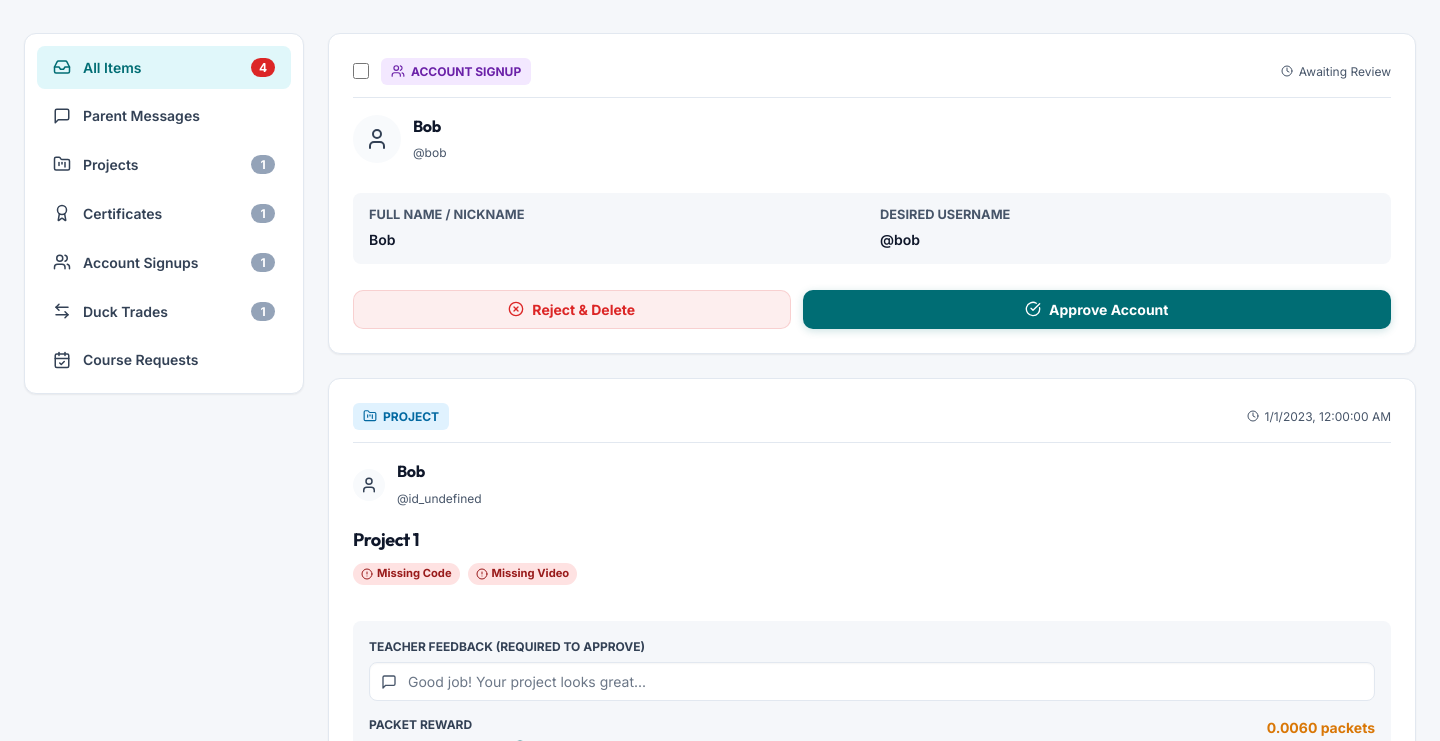
ToReview Component › switches tabs and renders appropriate content
The width and height of the screenshot is (1440, 741).
Expected: the text "Projects" is shown, x1=83 y1=156 x2=138 y2=173
Expected: the heading "Project 1" is shown, x1=353 y1=528 x2=419 y2=551
Note: Each tab narrows the list to its own kind
Step 1. Click the button "Certificates 1" → (164, 213), box x1=37 y1=192 x2=291 y2=235
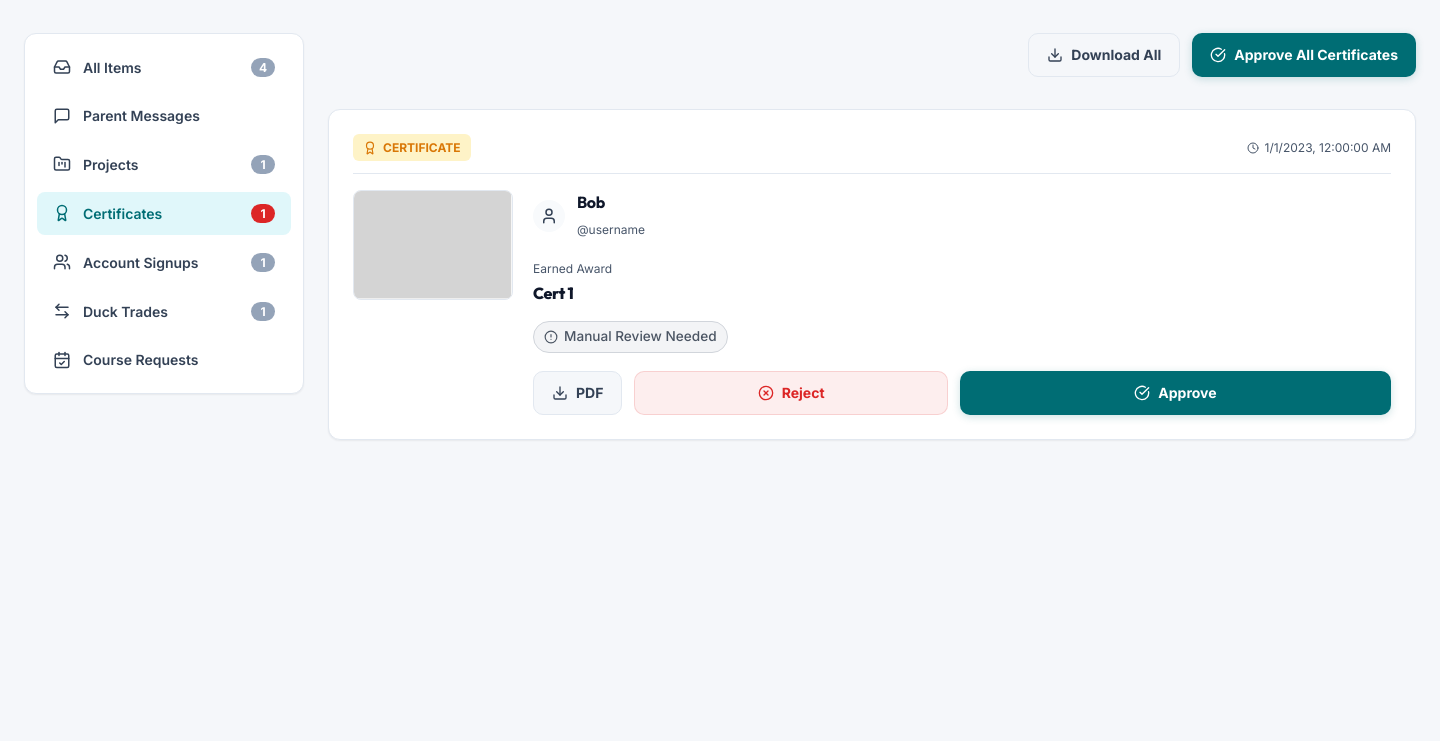
Expected: the heading "Cert 1" is shown, x1=533 y1=283 x2=573 y2=303
Expected: the text "Project 1" is gone
Step 2. Click the button "Projects 1" → (164, 164), box x1=37 y1=143 x2=291 y2=186
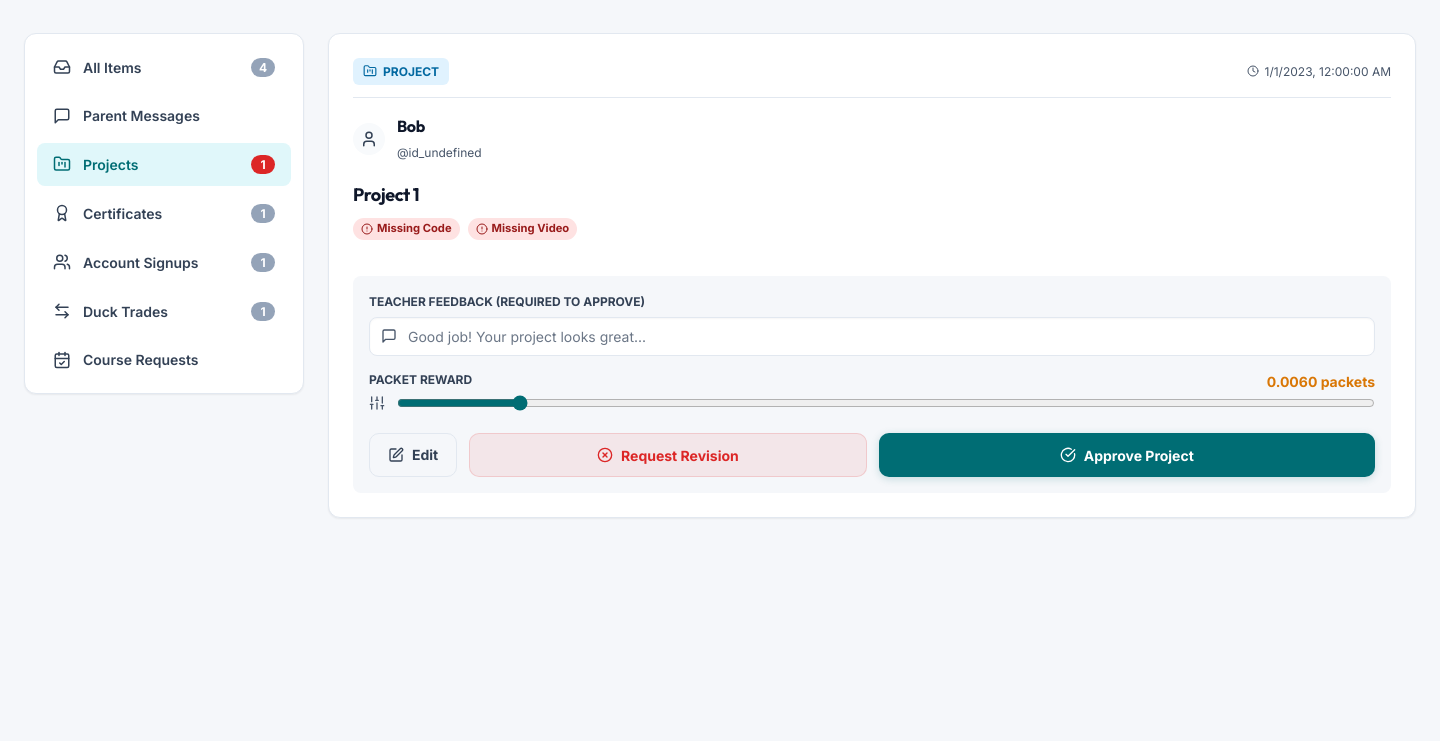
Expected: the heading "Project 1" is shown, x1=353 y1=183 x2=419 y2=206
Expected: the heading "Cert 1" is gone
Step 3. Click the button "Account Signups 1" → (164, 262), box x1=37 y1=241 x2=291 y2=284
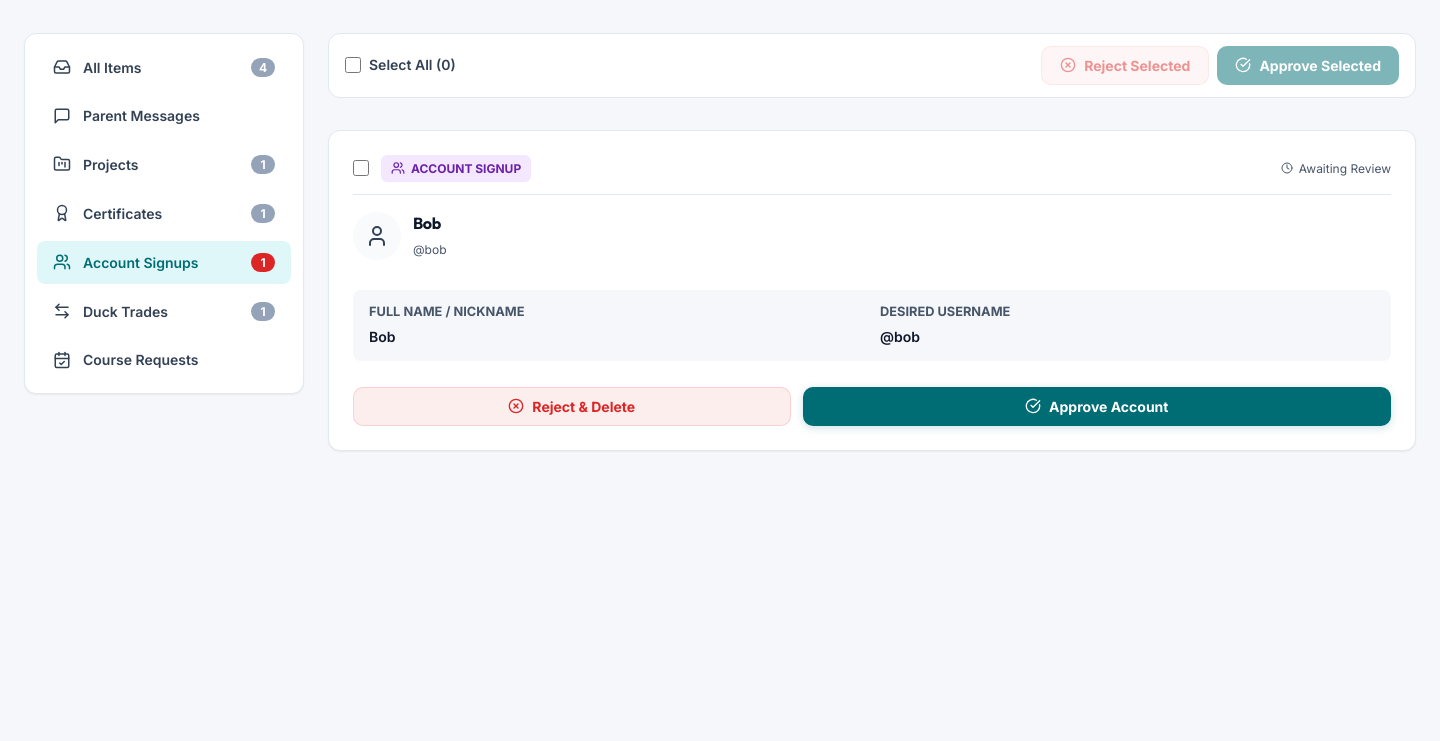
Expected: the button "Approve Account" is shown, x1=802 y1=387 x2=1391 y2=426
Expected: the text "Project 1" is gone
Step 4. Click the button "Duck Trades 1" → (164, 311), box x1=37 y1=290 x2=291 y2=333
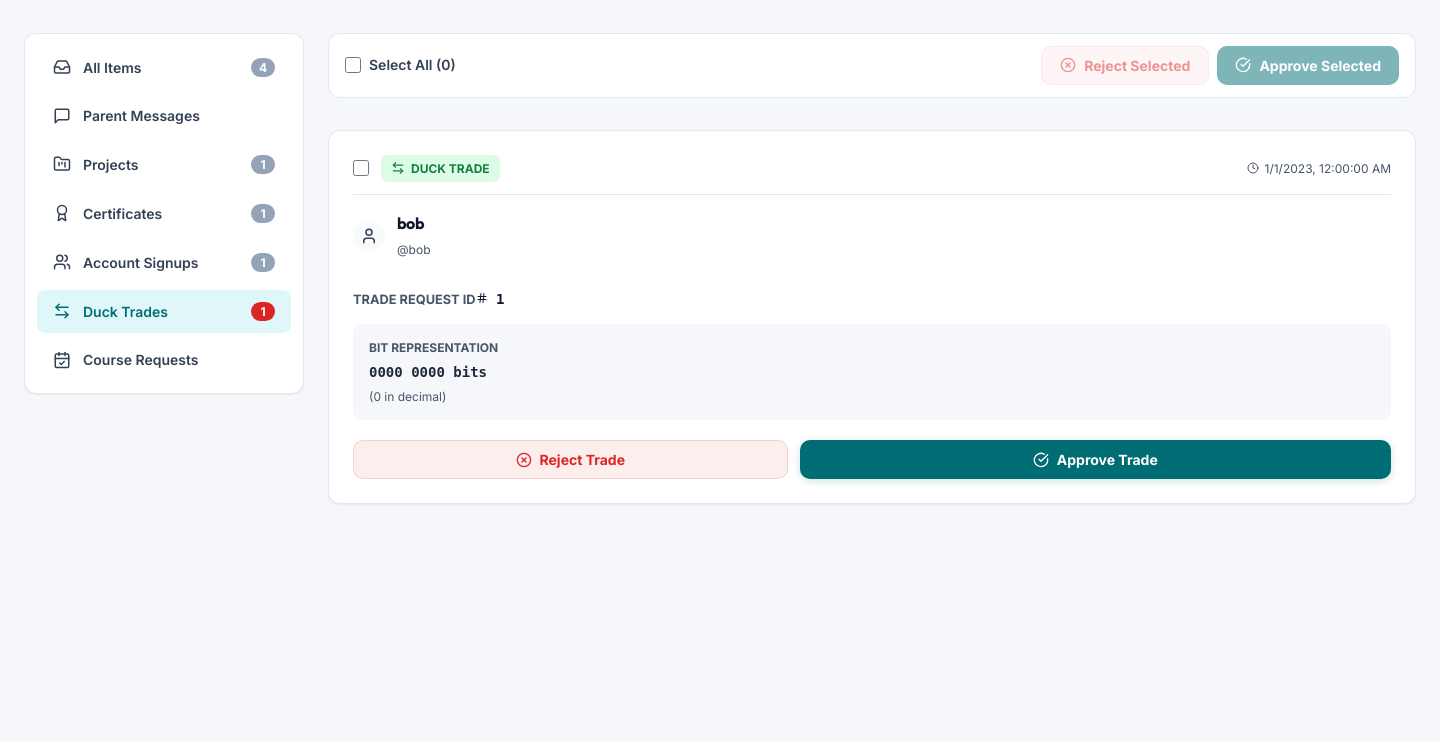
Expected: the button "Approve Trade" is shown, x1=800 y1=440 x2=1391 y2=479
Expected: the button "Approve Account" is gone
Note: A tab without items says so
Step 5. Click the button "Course Requests" → (164, 360), box x1=37 y1=339 x2=291 y2=381
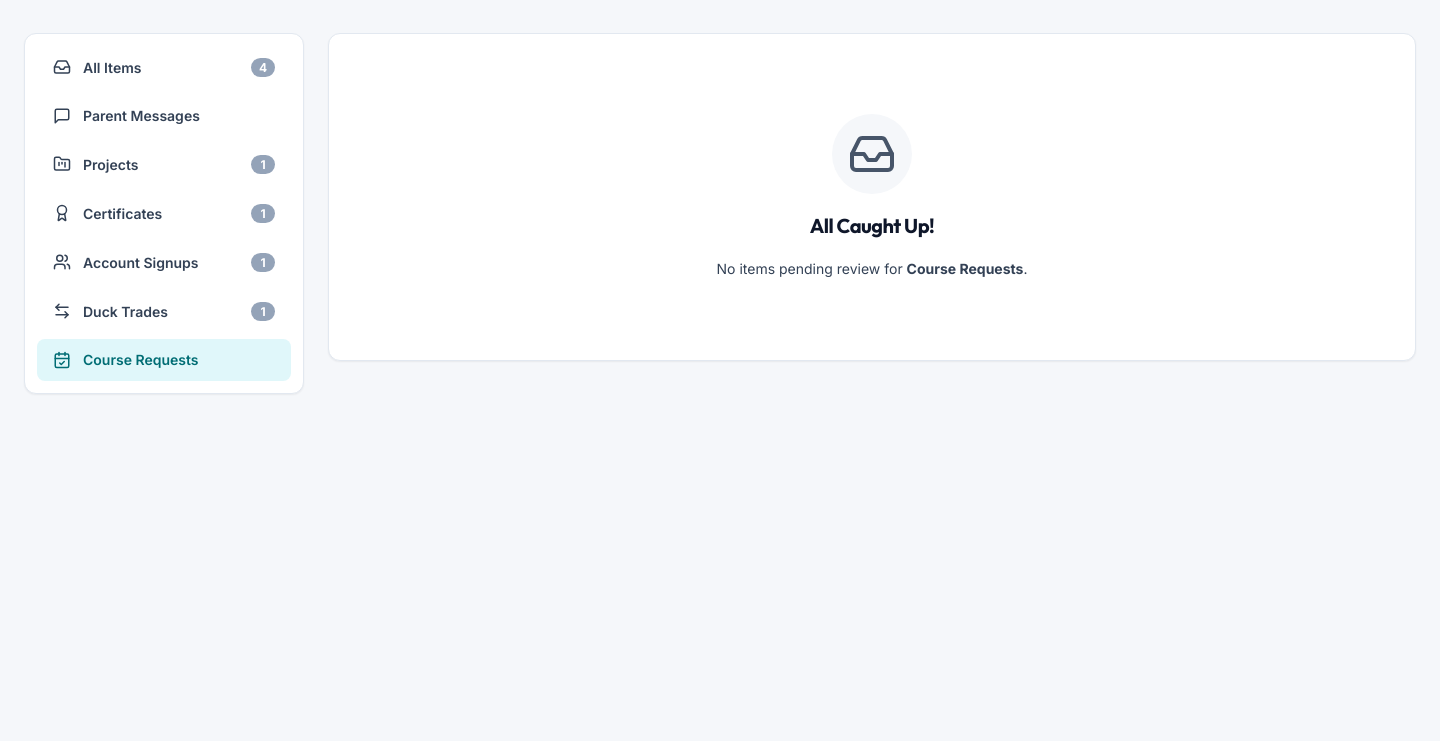
Expected: the button "Approve Trade" is gone
Expected: the heading "All Caught Up!" is shown, x1=810 y1=210 x2=934 y2=242
Step 6. Click the button "All Items 4" → (164, 67), box x1=37 y1=46 x2=291 y2=89
(page scrolled)
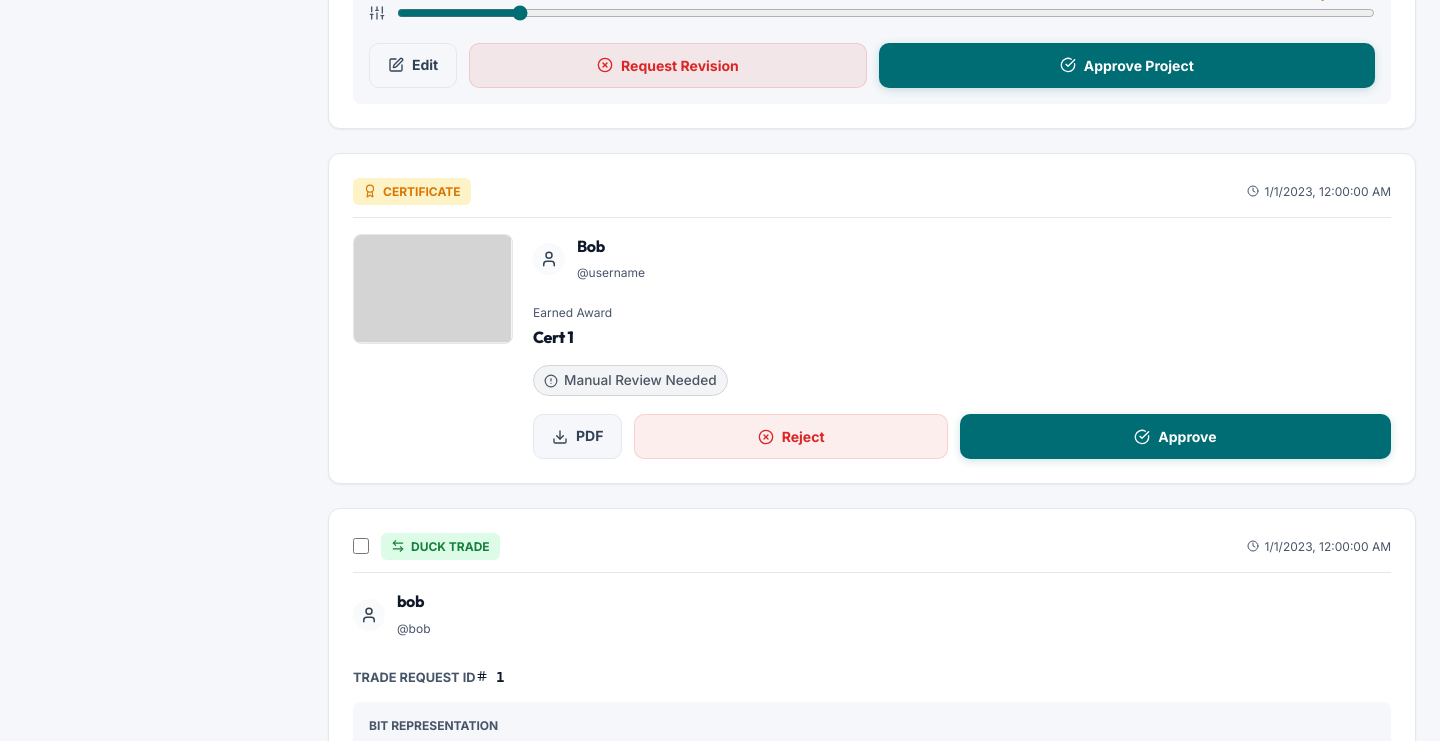
Expected: the heading "Cert 1" is shown, x1=533 y1=327 x2=573 y2=347
